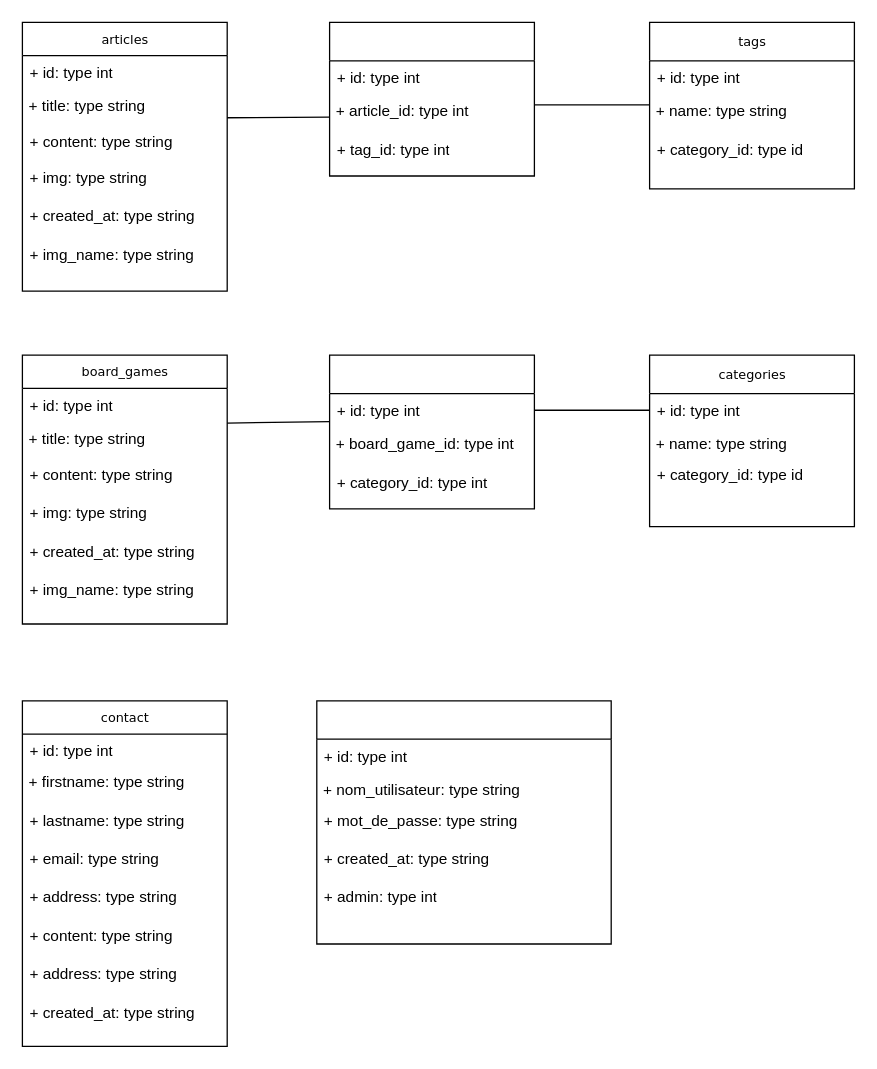
This 877x1069 diagram has some shape labels left out. Here are the shapes that lost their labels. From the top down, the box of each, then its label:
(328, 21, 534, 176): article_tag
(328, 354, 534, 509): board_game_category
(316, 700, 611, 944): user
